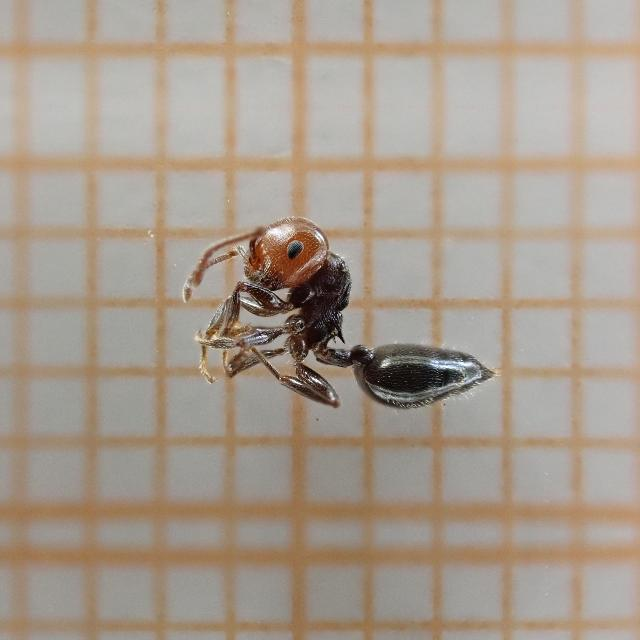Crematogaster: (206, 203, 496, 429)
